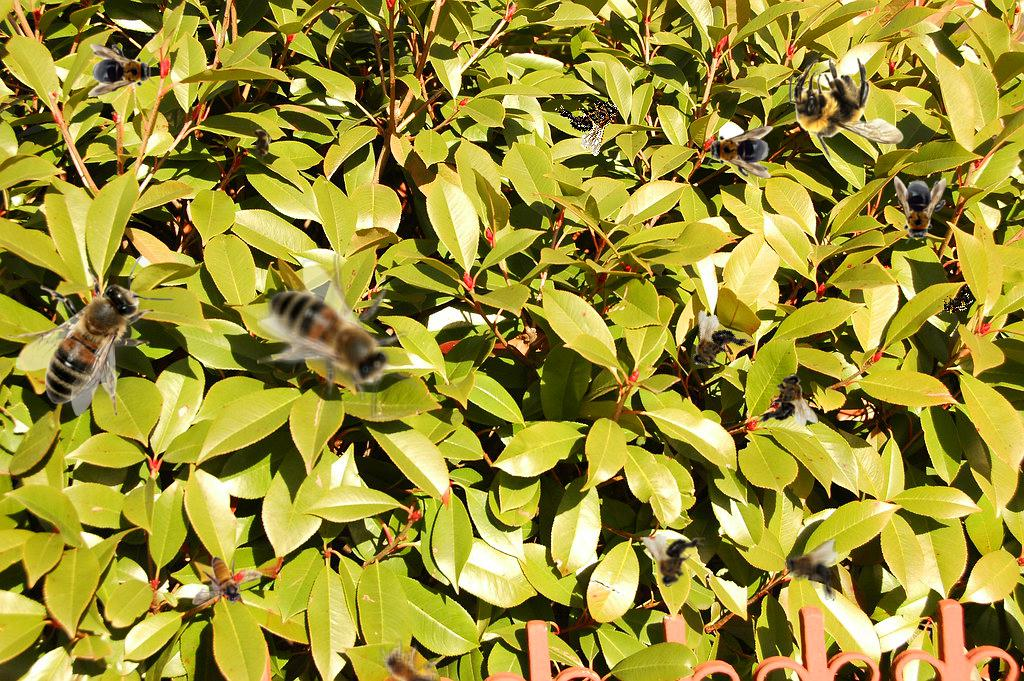Bee: (7, 254, 174, 416), (257, 252, 419, 419), (789, 56, 904, 163), (552, 77, 633, 159), (674, 307, 755, 385), (368, 630, 448, 681), (192, 556, 263, 606), (894, 176, 946, 244), (88, 44, 156, 96), (705, 126, 773, 178), (785, 539, 838, 601), (643, 534, 705, 587), (756, 373, 818, 426), (933, 284, 979, 322), (250, 124, 272, 164)
